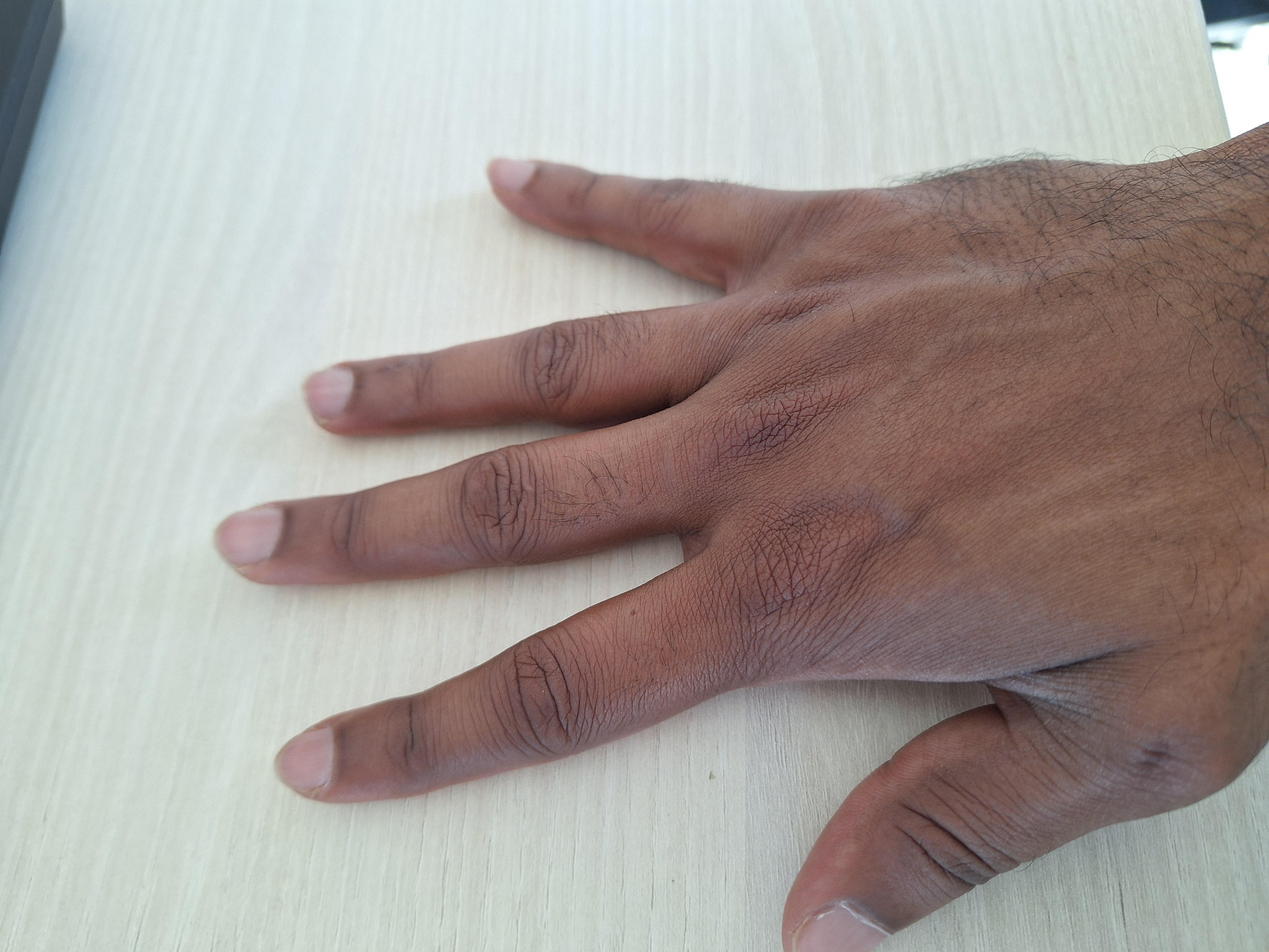Fingernail: (215, 508, 285, 566), (275, 728, 334, 795), (303, 368, 354, 425), (488, 158, 535, 191)
